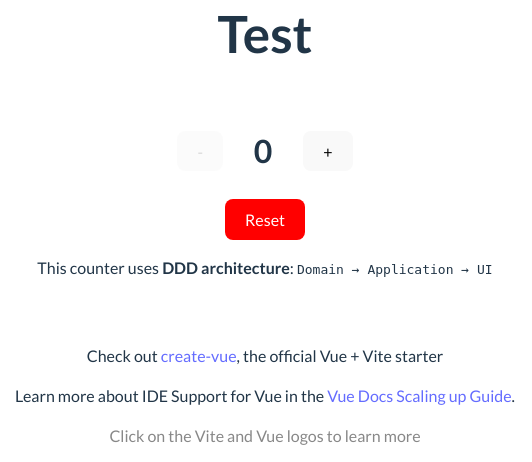
Test case: HelloWorld › resets count when reset button is clicked
This screenshot has width=532, height=462.
Click the button "+" at (328, 151), box x1=303 y1=131 x2=353 y2=172
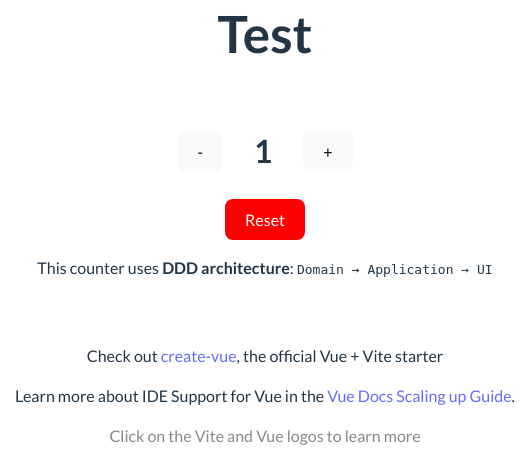
Click the button "+" at (328, 151), box x1=303 y1=131 x2=353 y2=172
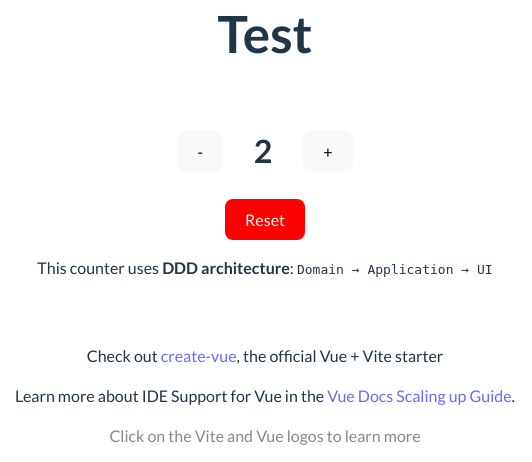
Click the button "+" at (328, 151), box x1=303 y1=131 x2=353 y2=172
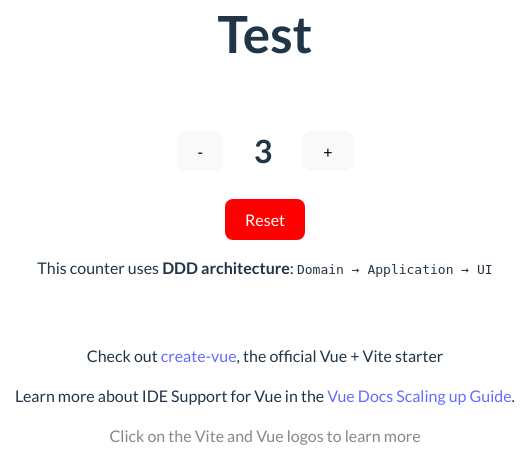
Click the button "+" at (328, 151), box x1=303 y1=131 x2=353 y2=172
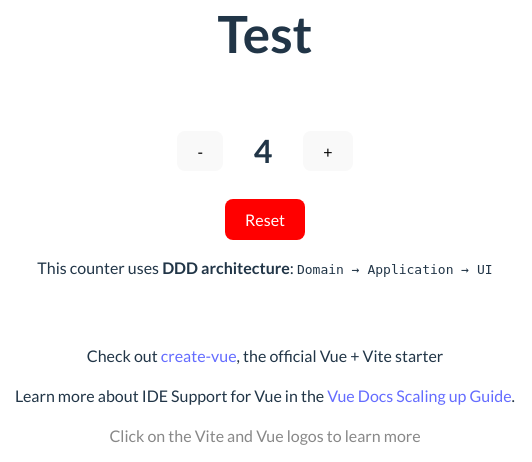
Click the button "+" at (328, 151), box x1=303 y1=131 x2=353 y2=172
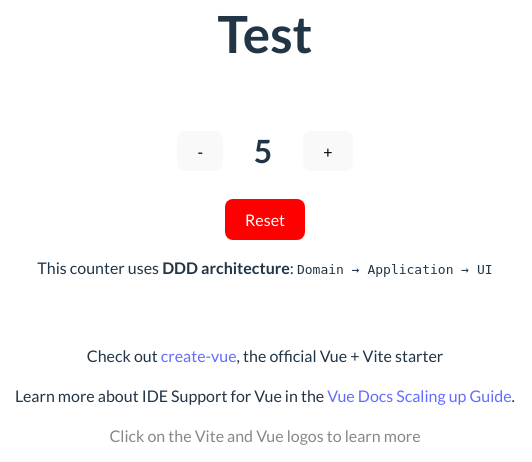
Now the text with class "counter-display" reads "5", box x1=254 y1=131 x2=272 y2=170
Click the button with class "reset-btn" at (265, 220), box x1=225 y1=199 x2=305 y2=240
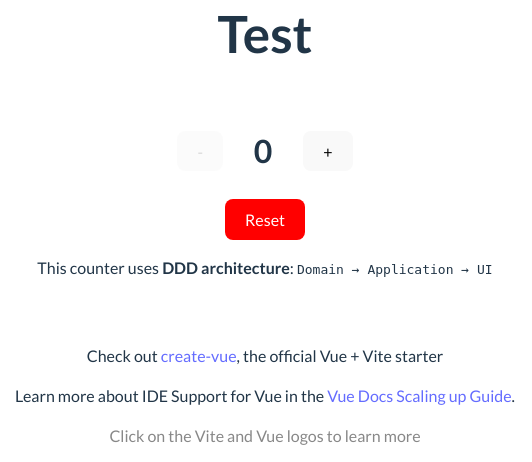
Now the text with class "counter-display" reads "0", box x1=254 y1=131 x2=272 y2=170
